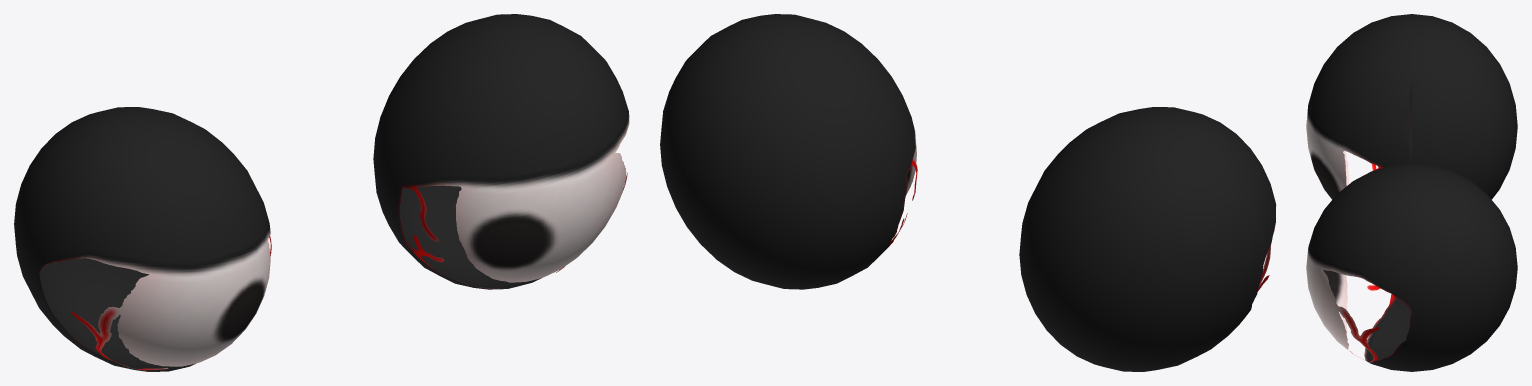
File: Tired_Eye.fbx
3 views of the same model, side by side, from view 1: azimuth 30°, elevation 25°; view 2: azimuth 150°, elevation 25°; view 3: azimuth 270°, elevation 25° (orthographic). The views are drawn at different scales.
Visible parts, largest first — view 1: Yorgun_Göz._Melee; view 2: Yorgun_Göz._Melee; view 3: Yorgun_Göz._Melee.
Part boxes in pixels (x1,y1,x2,y2): Yorgun_Göz._Melee: (14, 14, 629, 371); Yorgun_Göz._Melee: (660, 14, 1276, 371); Yorgun_Göz._Melee: (1306, 14, 1517, 371).
Bounding box in the file's own units: 78.95 × 31.96 × 30.86.
